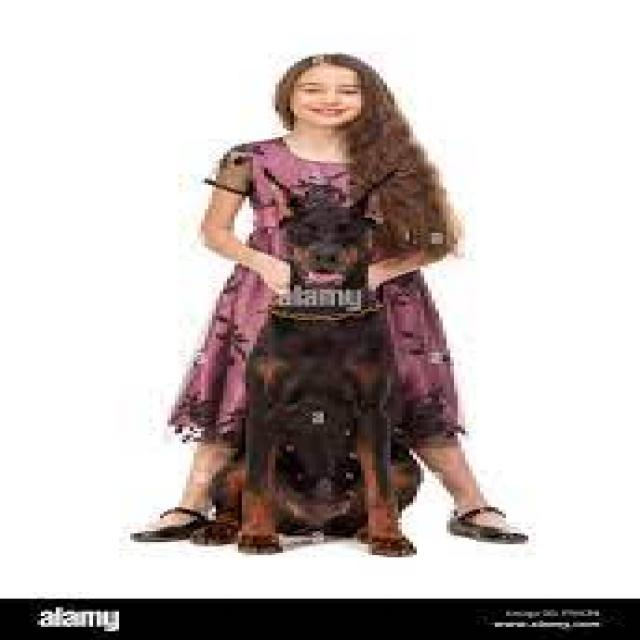Dog: (191, 160, 416, 558)
